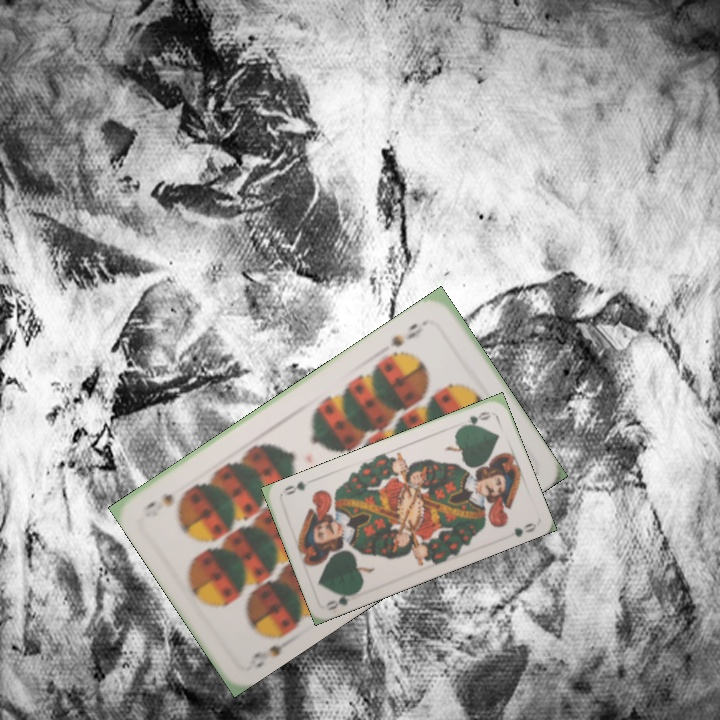GO: (322, 585, 363, 613), (456, 407, 494, 431)
S9: (244, 633, 297, 671), (385, 315, 433, 350)
